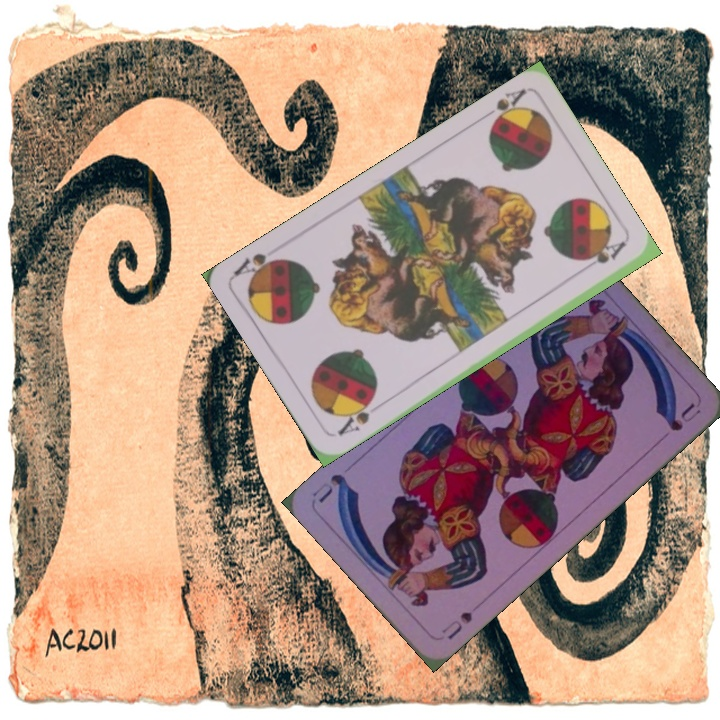SA: (477, 84, 529, 132), (333, 393, 378, 438)
SU: (437, 607, 475, 643)
